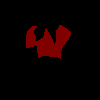gilet: (26, 24, 71, 58)
